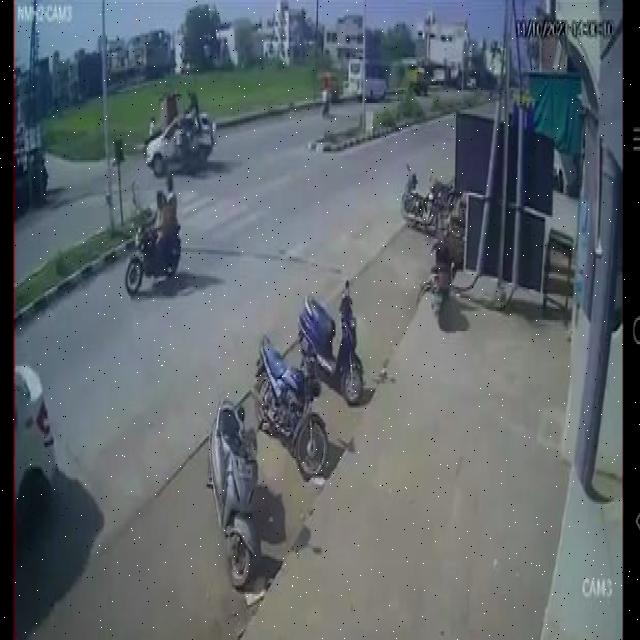accident: (135, 81, 216, 182)
